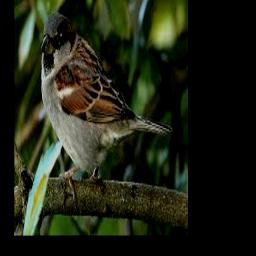Sparrow: (41, 11, 173, 197)
